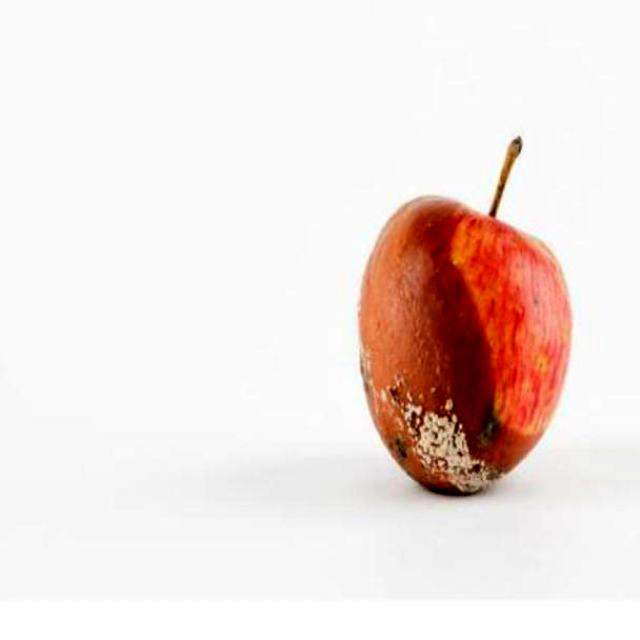ROT: (357, 136, 595, 520)
